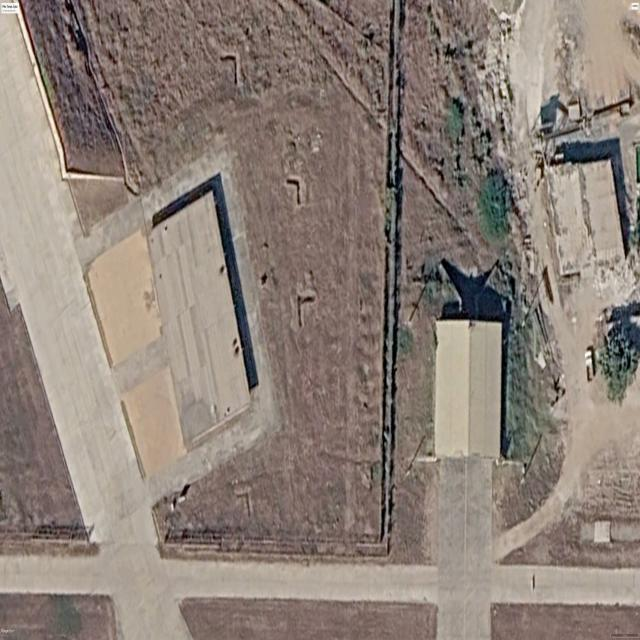Home: (148, 192, 249, 447), (434, 320, 502, 459), (548, 160, 624, 276)
